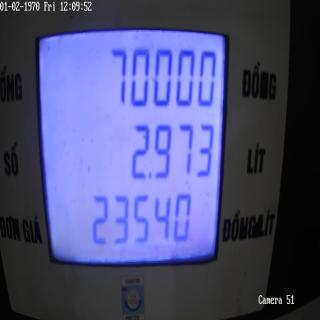screen: (32, 5, 232, 288)
